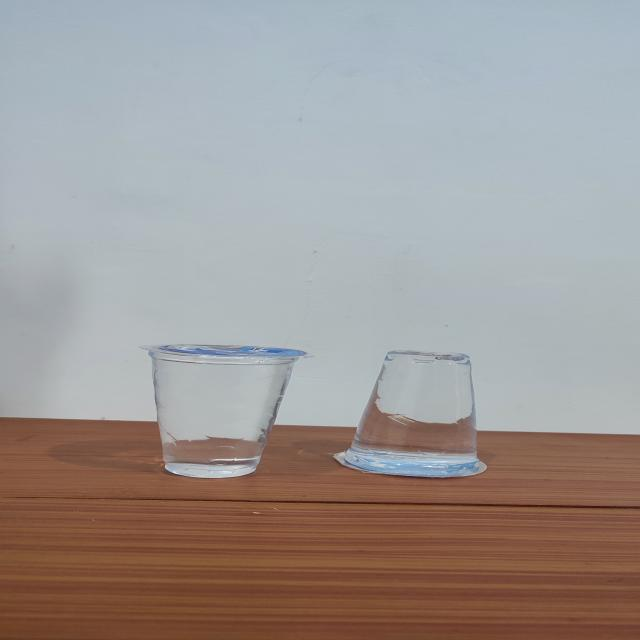air gelas: (326, 349, 521, 487), (133, 339, 311, 489)
